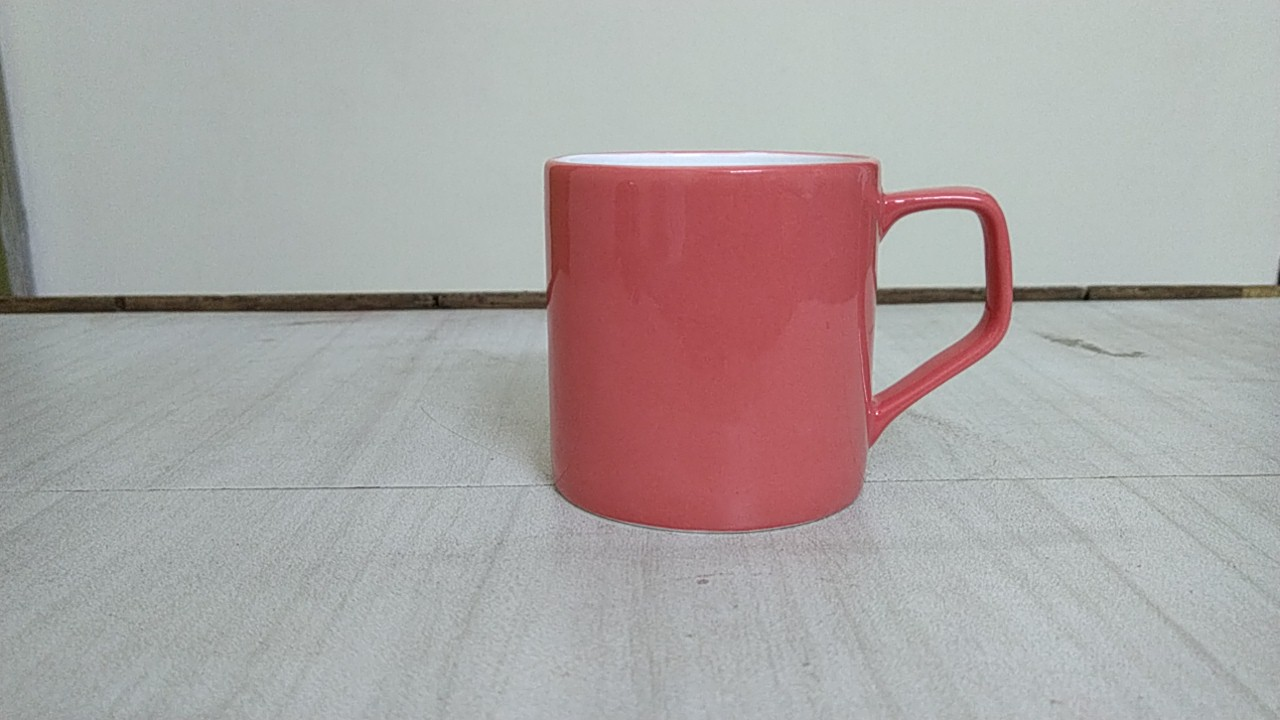cup: (519, 130, 1034, 552)
